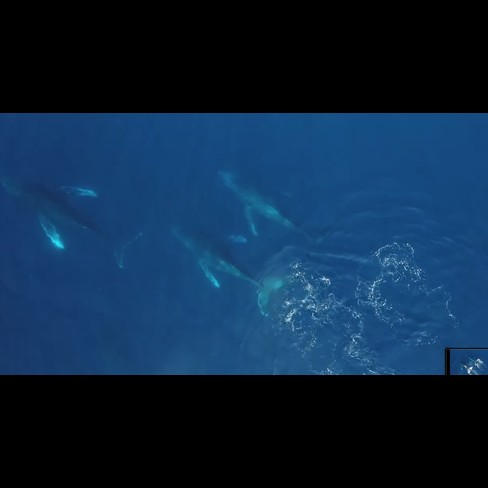hump: (1, 158, 145, 268), (163, 222, 286, 312), (215, 164, 331, 257)
